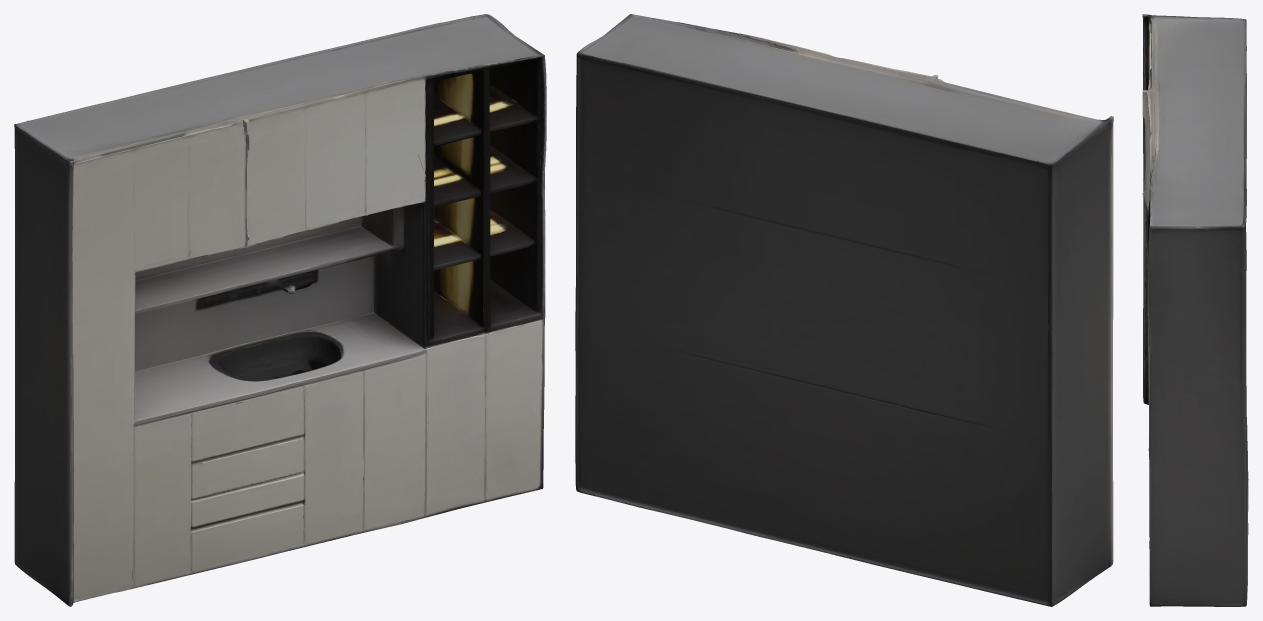
Rendered from ast_97854ca2b58d.glb.
3 views of the same model, side by side, from view 1: azimuth 30°, elevation 25°; view 2: azimuth 150°, elevation 25°; view 3: azimuth 270°, elevation 25° (orthographic). The views are drawn at different scales.
Visible parts, largest first — view 1: geometry_0; view 2: geometry_0; view 3: geometry_0.
Part boxes in pixels (x1,y1,x2,y2): geometry_0: (14,14,546,606); geometry_0: (575,14,1113,606); geometry_0: (1142,14,1248,606).
Bounding box in the file's own units: 0.9989 × 0.8883 × 0.2189.
1 material, 1 textured.
